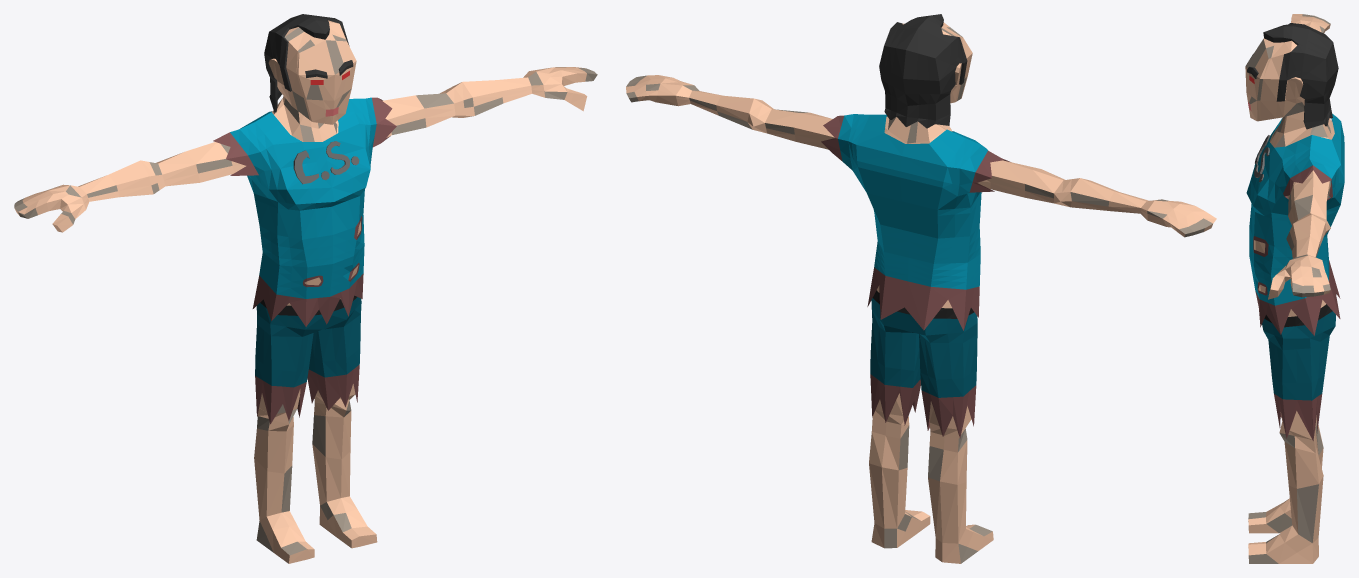
Rendered from NPC_Piromano.fbx.
3 renders of one model, left to right at view 1: azimuth 30°, elevation 25°; view 2: azimuth 150°, elevation 25°; view 3: azimuth 270°, elevation 25°, orthographic. The views are drawn at different scales.
Parts seen in each view (by area): view 1: Cabeza_2; view 2: Cabeza_2; view 3: Cabeza_2.
Part boxes in pixels (left/top/right/bottom): Cabeza_2: left=14, top=14, right=597, bottom=563; Cabeza_2: left=626, top=14, right=1216, bottom=563; Cabeza_2: left=1245, top=14, right=1344, bottom=563.
Bounding box in the file's own units: 215 × 185 × 32.28.
